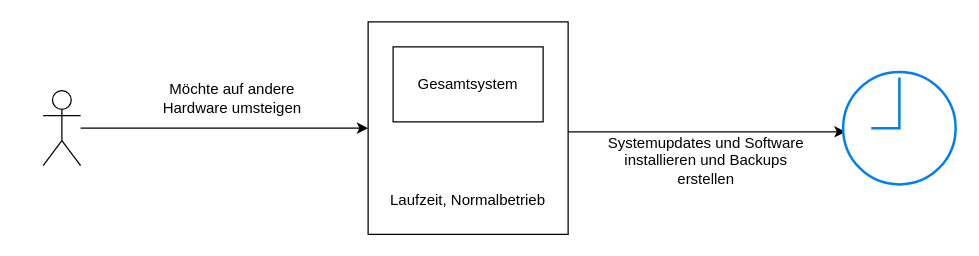
Some shapes in this 979 by 256 pixel diagram are drawn without their labels. Here are the shapes that lost their labels. From the top down, the centre of each, then its label:
(x=61, y=127): IT-Abteilung
(x=898, y=127): Fertig in 1 Woche
